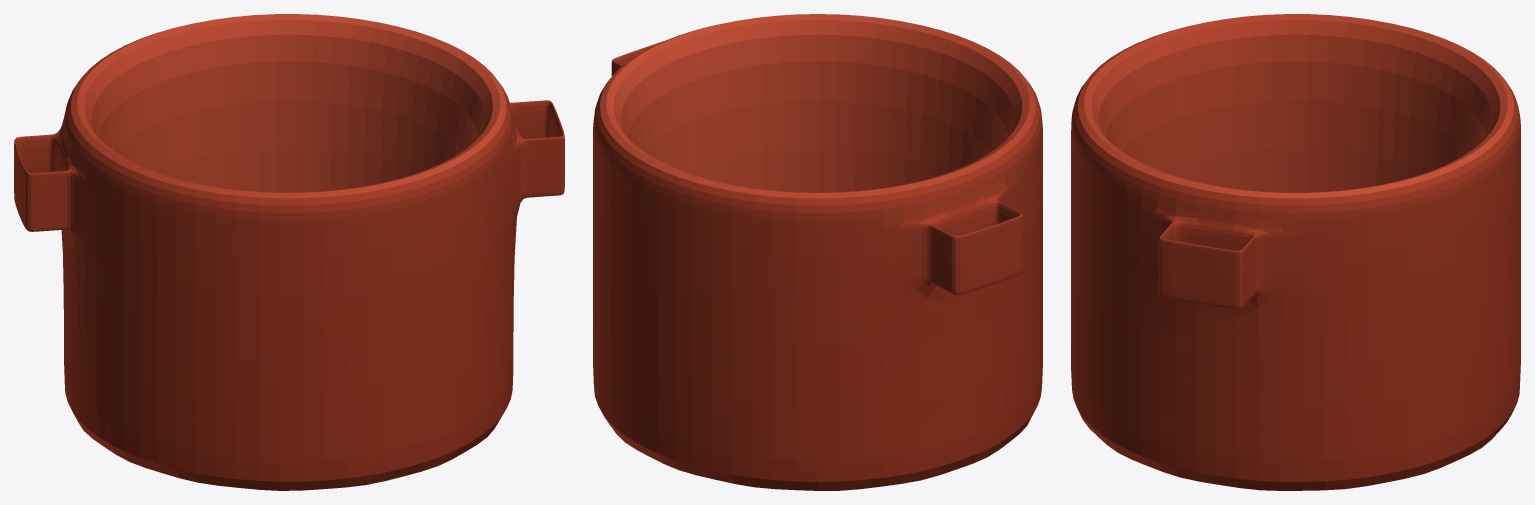
The model's file is Pot (1).fbx.
3 renders of one model, left to right at view 1: azimuth 30°, elevation 25°; view 2: azimuth 150°, elevation 25°; view 3: azimuth 270°, elevation 25°, orthographic.
Parts seen in each view (by area): view 1: Pot; view 2: Pot; view 3: Pot.
Part boxes in pixels (bbox=[...]): Pot: bbox=[14, 14, 564, 490]; Pot: bbox=[593, 14, 1042, 490]; Pot: bbox=[1071, 14, 1520, 490].
Size of the model in its own units: 185 by 115 by 154.
